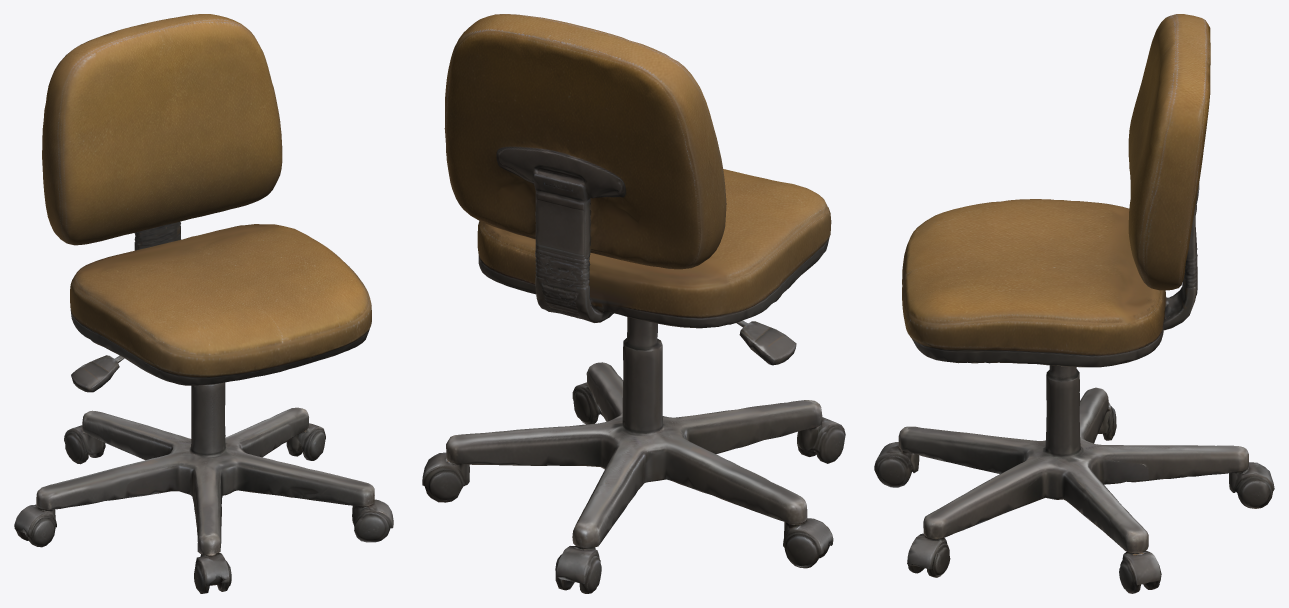
File: VAR_Yellow_SwivelChair.fbx
3 views of the same model, side by side, from view 1: azimuth 30°, elevation 25°; view 2: azimuth 150°, elevation 25°; view 3: azimuth 270°, elevation 25° (orthographic). The views are drawn at different scales.
Parts seen in each view (by area): view 1: texture_mapping; view 2: texture_mapping; view 3: texture_mapping.
Boxes of the visible parts, x1,y1,x2,y2 form: texture_mapping: (14,14,393,593); texture_mapping: (422,14,845,593); texture_mapping: (874,14,1274,593).
Size of the model in its own units: 0.7651 by 0.7612 by 1.
Materials: 1 (1 with a texture image).
